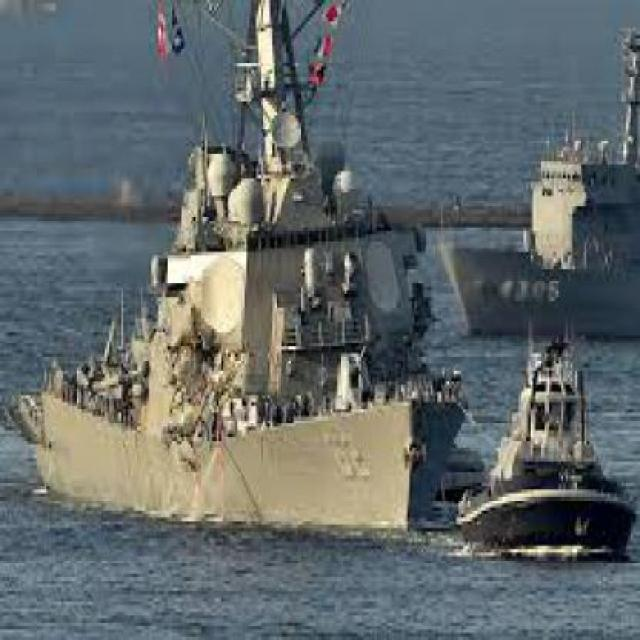warship2: (20, 50, 449, 554)
